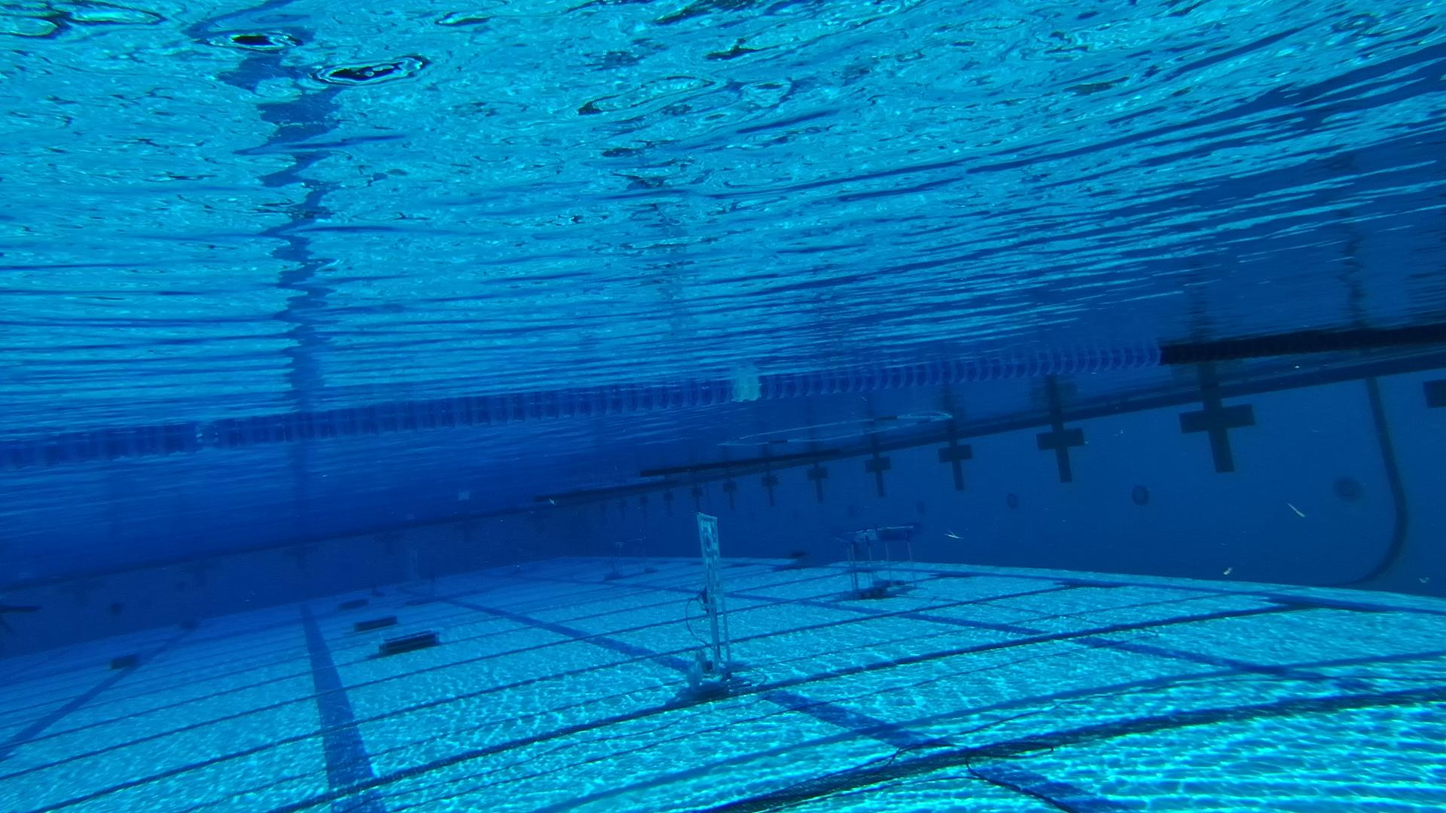buoy: (109, 604, 128, 627), (176, 578, 187, 599)
coral-box-side: (835, 517, 937, 596), (607, 527, 661, 581), (508, 531, 544, 575)
dropper-box-side: (386, 628, 447, 657), (350, 615, 401, 634), (342, 597, 374, 607)
